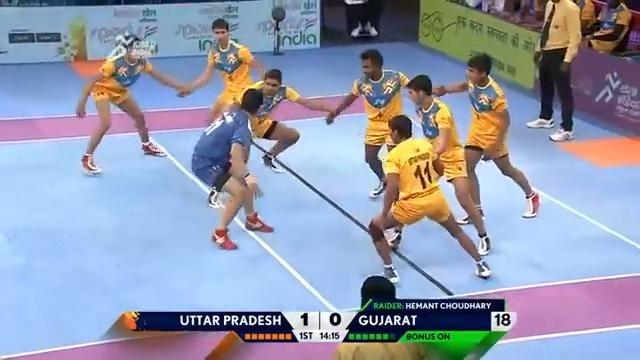Player: (366, 112, 493, 286), (432, 52, 542, 224), (72, 31, 188, 177), (324, 46, 413, 198), (237, 66, 334, 174), (177, 16, 263, 125)
Raider: (188, 87, 278, 251)
referee: (525, 0, 583, 142)
